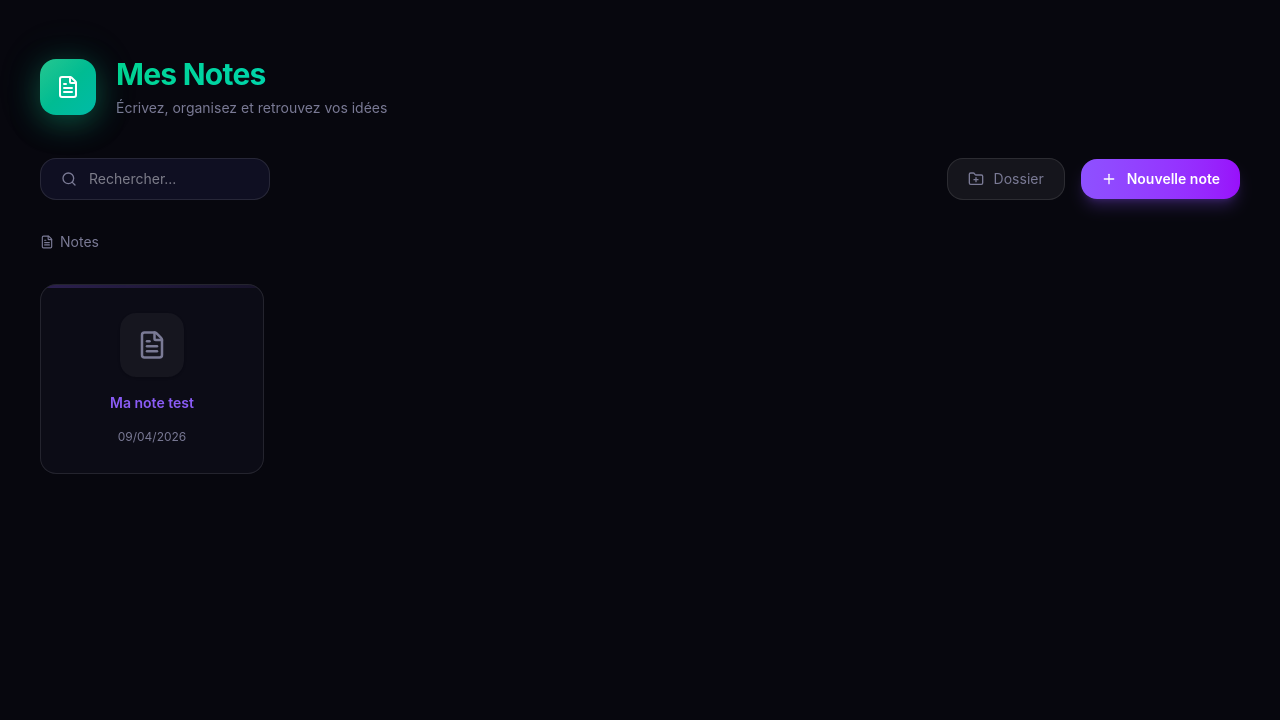
Scenario: Notes - Browser view › shows new folder input on click
This screenshot has width=1280, height=720.
Click the button "Dossier" at (1006, 179), box [947,158,1065,200]
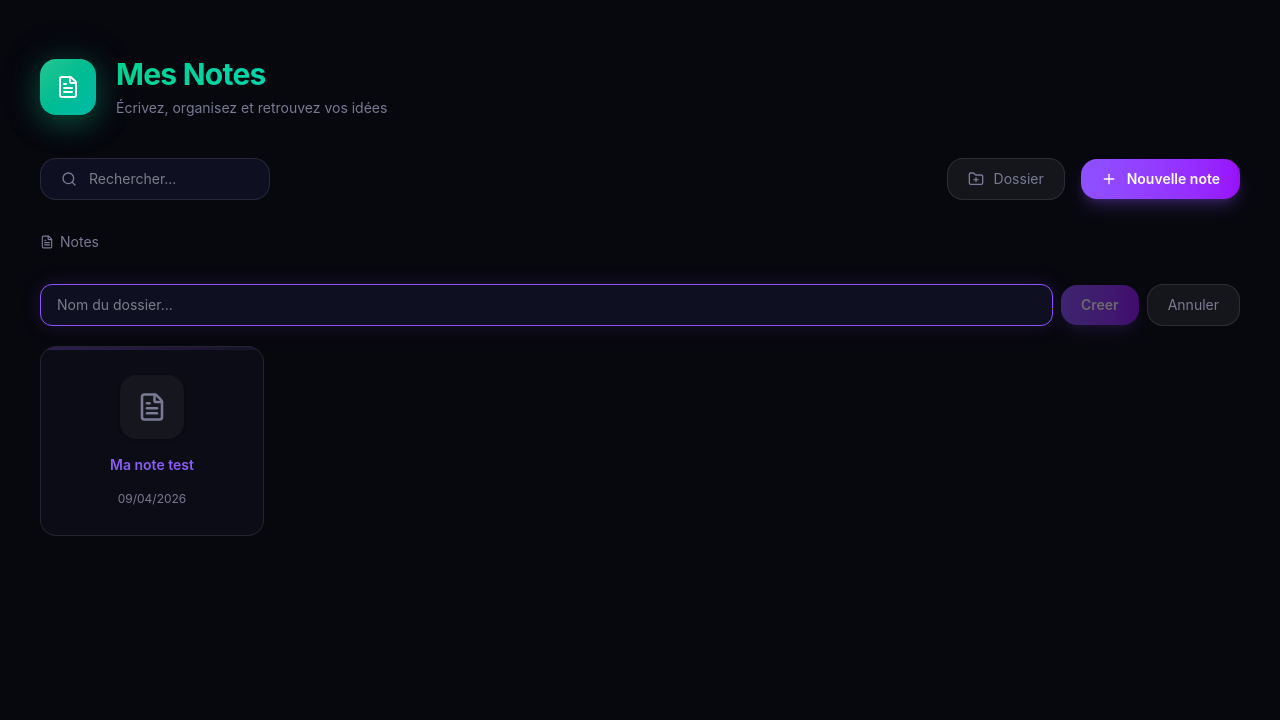
Expected: the field with placeholder "Nom du dossier..." is shown, [40,284,1053,326]
